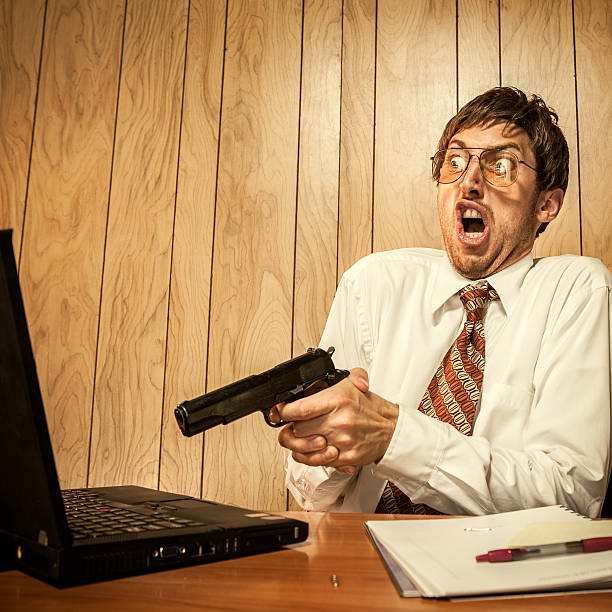gun: (171, 342, 355, 437)
